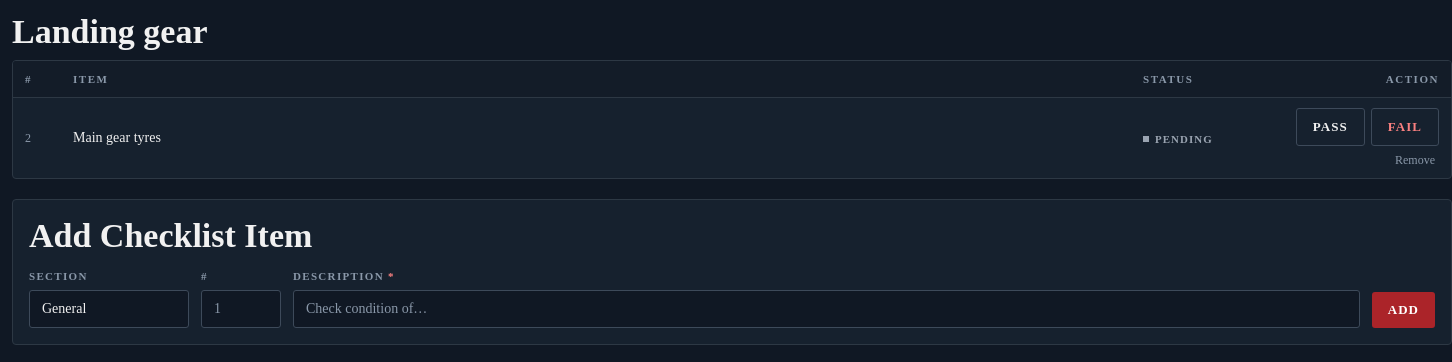
Test: Checklist (#178) › shows a refusal on the item
Click the button with aria-label "Pass: Main gear tyres" at (1330, 127), box [1296,108,1365,146]
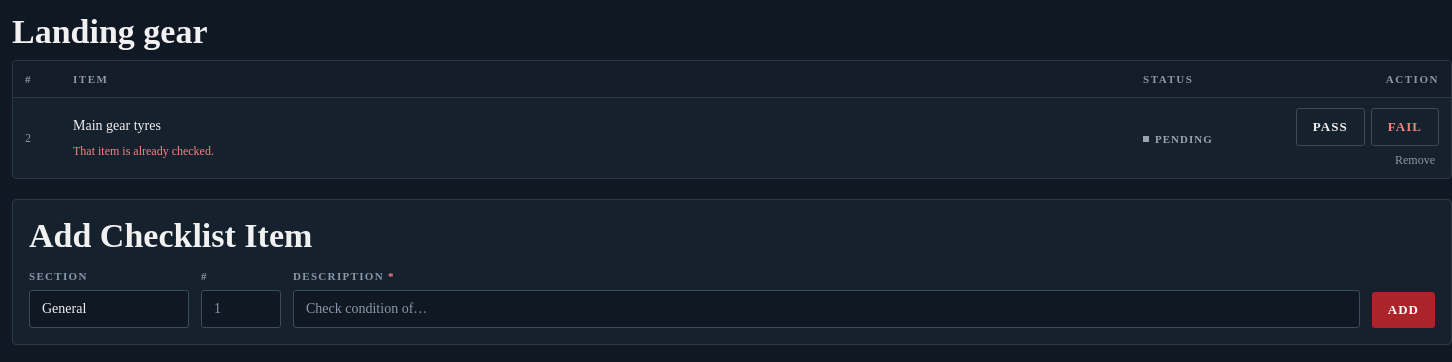
Result: the message reads "That item is already checked." at [73,144,214,158]
